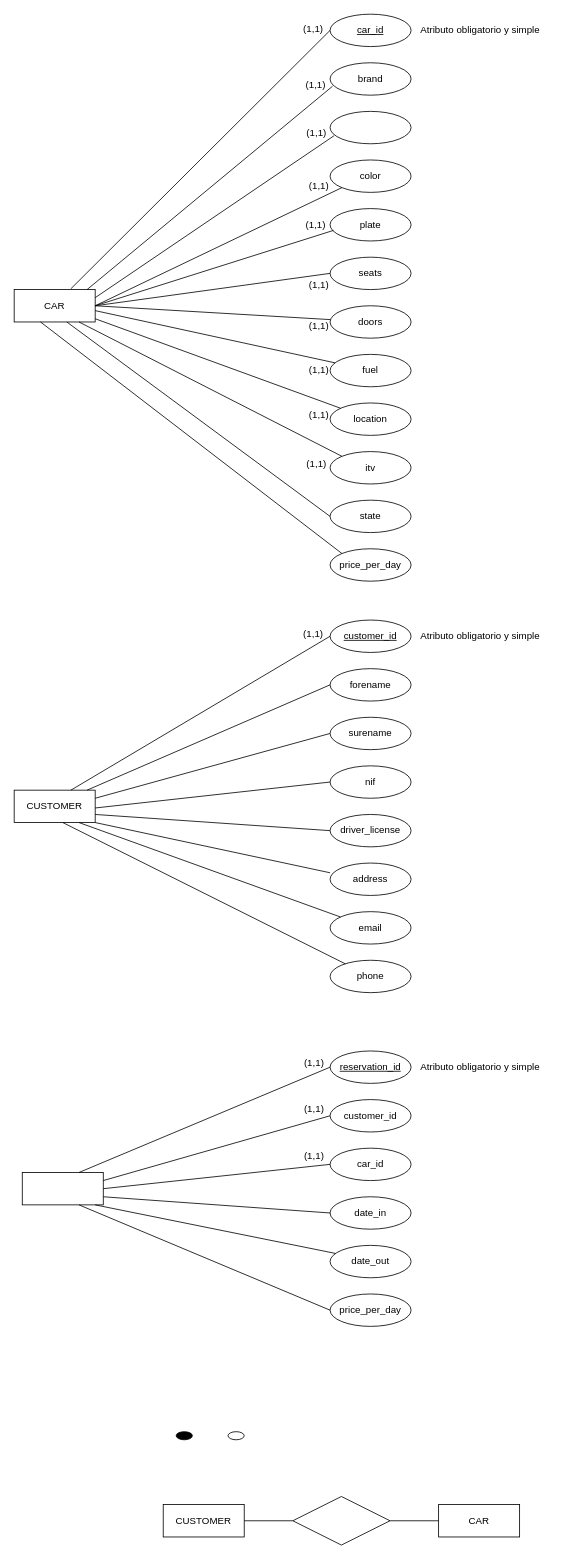
The diagram is 563 pixels wide and 1559 high, and some of its shapes have lost their labels. Here are the shapes that lost their labels. From the top down, the centre of each, then its label:
At [370,127]: "model".
At [62,1188]: "RESERVATION".
At [341,1520]: "RESERVA".
